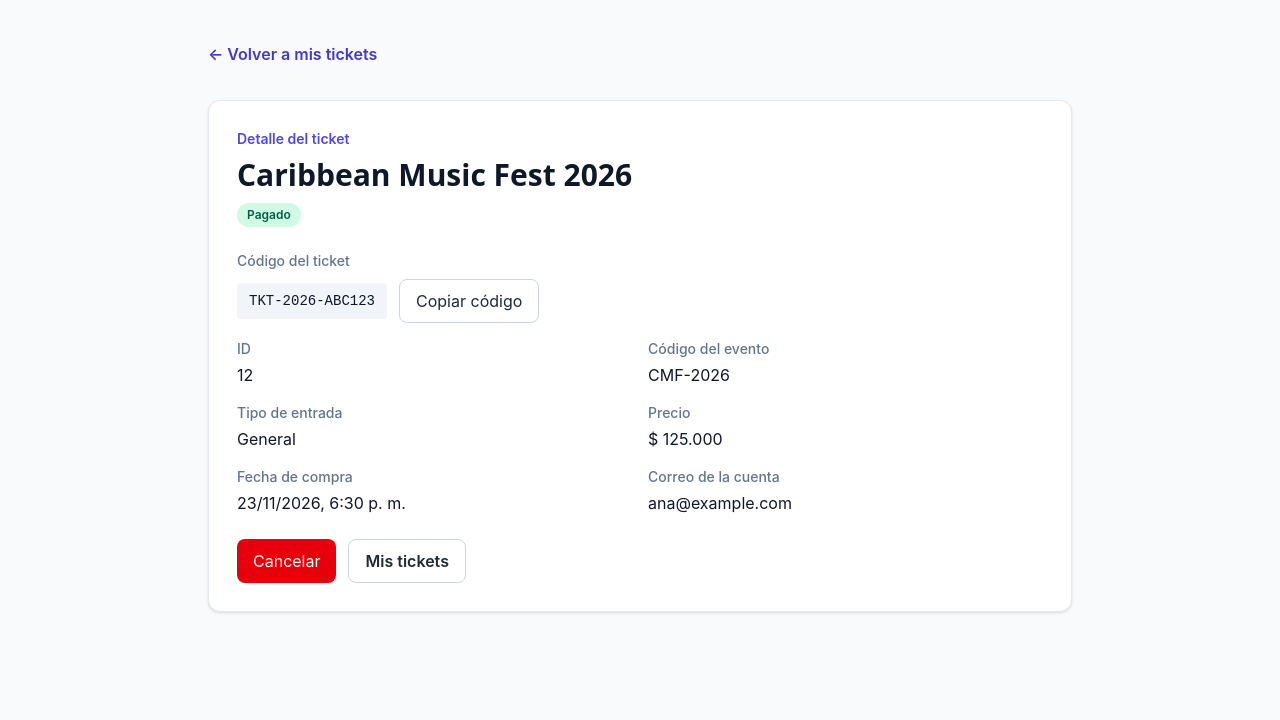
flujos USER de tickets › TEST-FE-TKT-008 conserva la confirmación y el mensaje del backend ante 409 al cancelar
expect the heading "Caribbean Music Fest 2026" is shown: met, box x1=237 y1=154 x2=632 y2=195
Click the button with aria-label "Cancelar ticket TKT-2026-ABC123": (287, 561) x1=237 y1=539 x2=336 y2=583
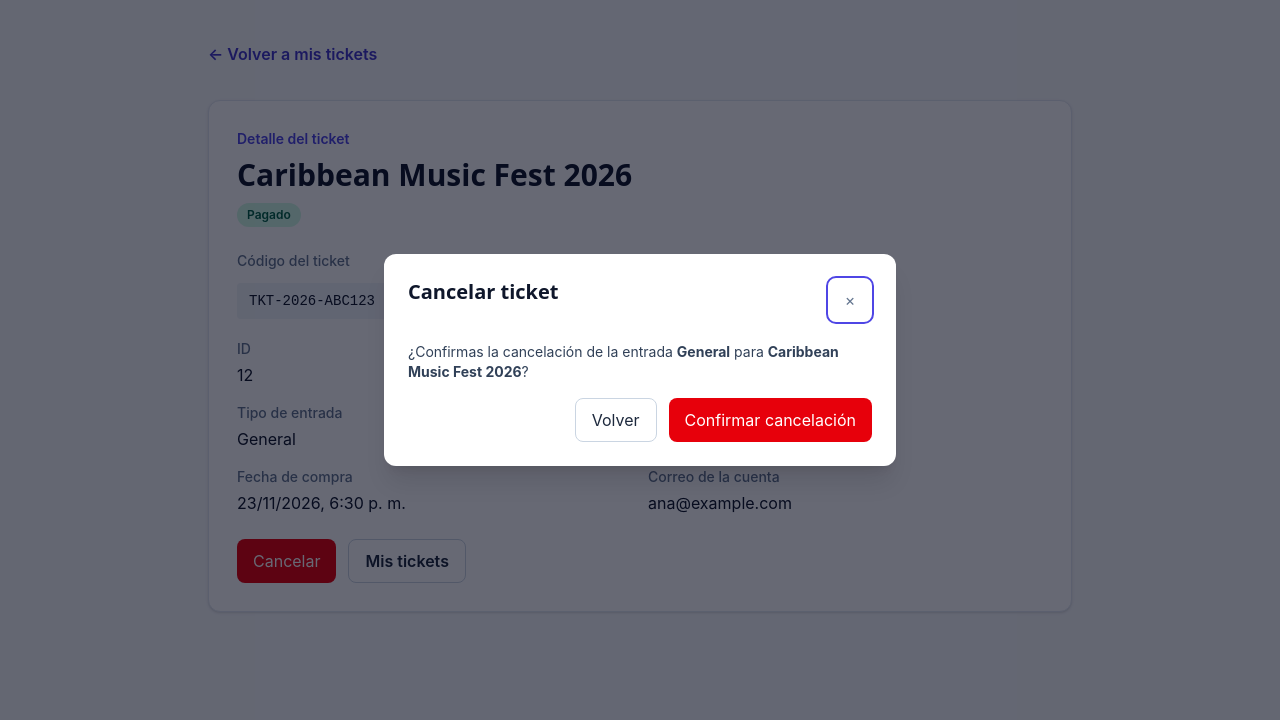
Click the button "Confirmar cancelación": (770, 420) x1=668 y1=398 x2=872 y2=442
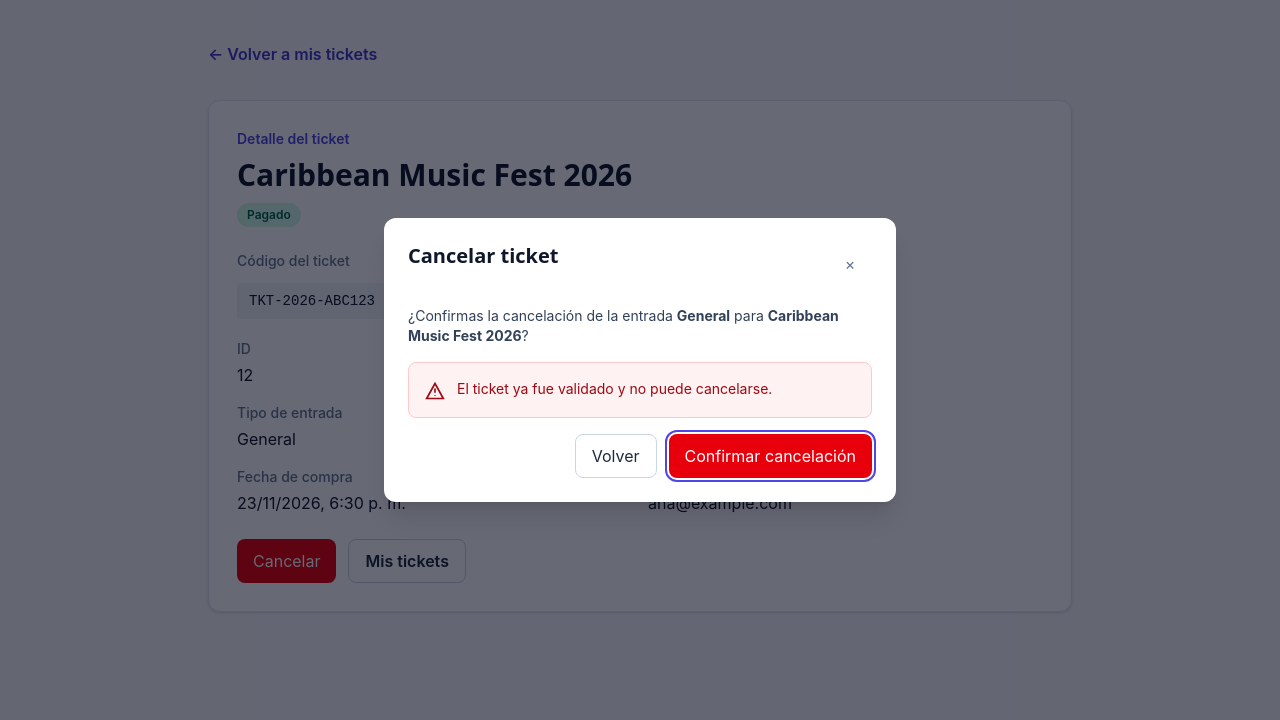
expect the dialog "Cancelar ticket" is shown: met, box x1=384 y1=218 x2=896 y2=502
expect the text "El ticket ya fue validado y no puede cancelarse." is shown: met, box x1=457 y1=379 x2=772 y2=399
expect the message reads "El ticket ya fue validado y no puede cancelarse.": met, box x1=457 y1=380 x2=772 y2=397
